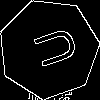U: (24, 24, 79, 73)
